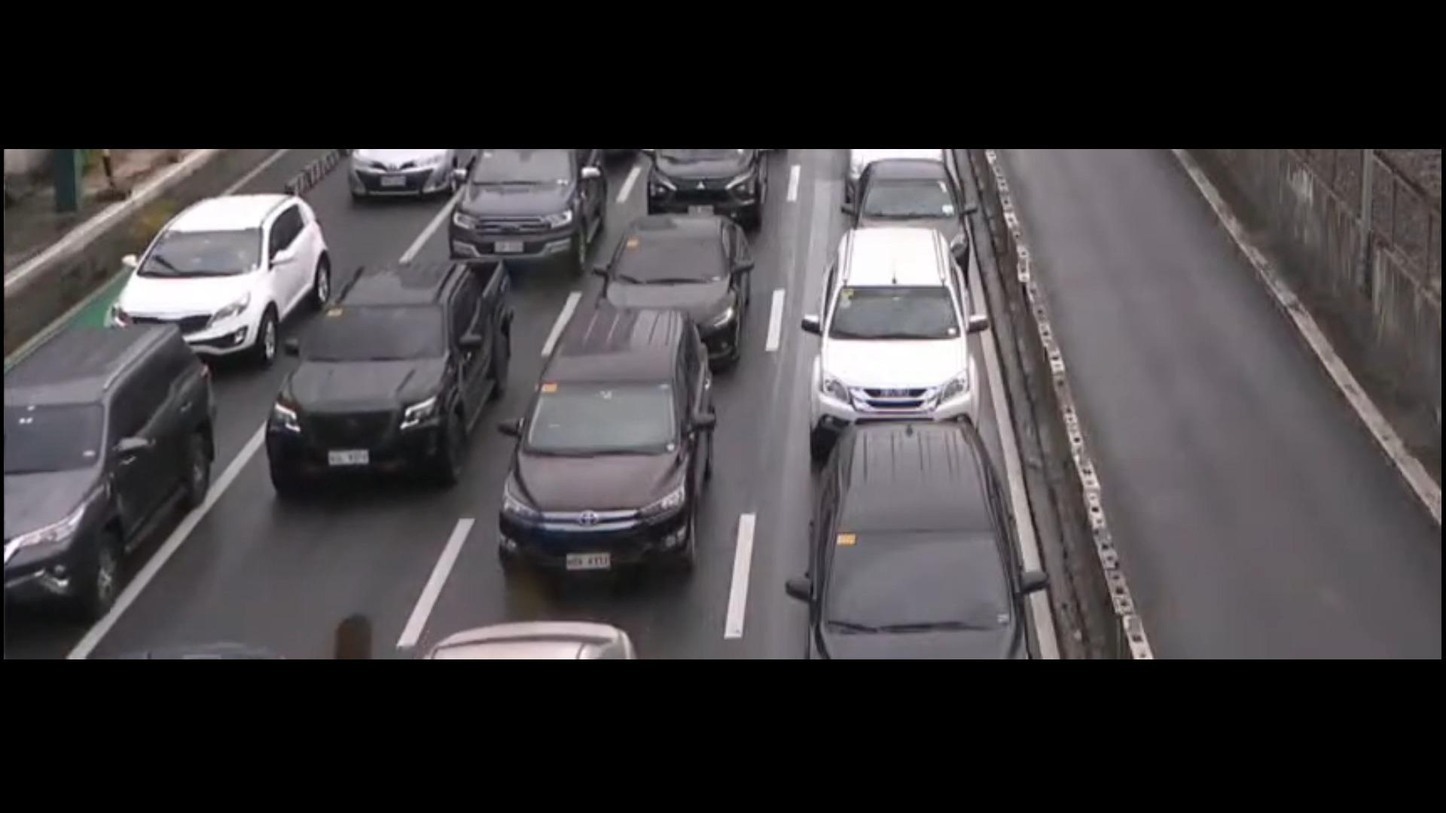Pickup: (264, 256, 518, 503)
SUV: (500, 303, 720, 587), (5, 324, 215, 613), (809, 416, 1041, 657), (804, 226, 985, 459), (107, 196, 334, 360), (447, 149, 615, 273), (646, 150, 767, 226)
Sedan: (596, 211, 749, 369), (850, 162, 973, 280), (345, 151, 479, 202)
